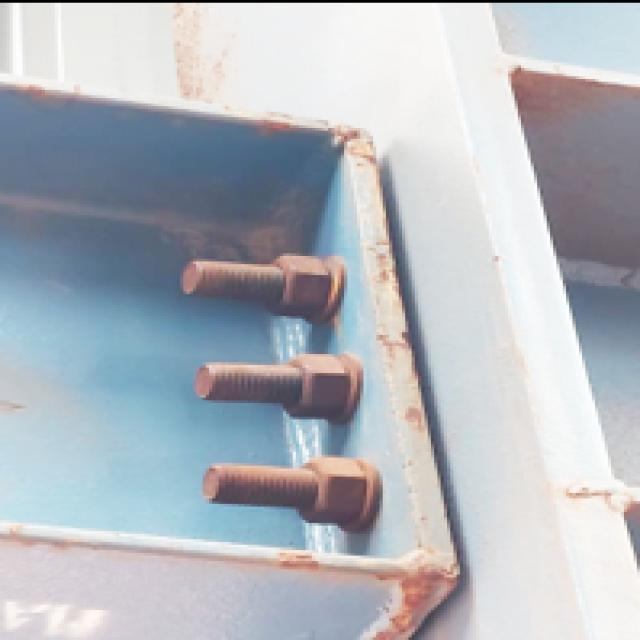Rusty bolt: (179, 232, 363, 319), (199, 443, 383, 530), (185, 334, 368, 421)
